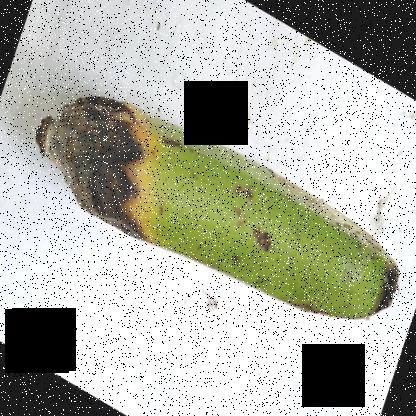rotten: (6, 72, 177, 286), (358, 247, 416, 343)
